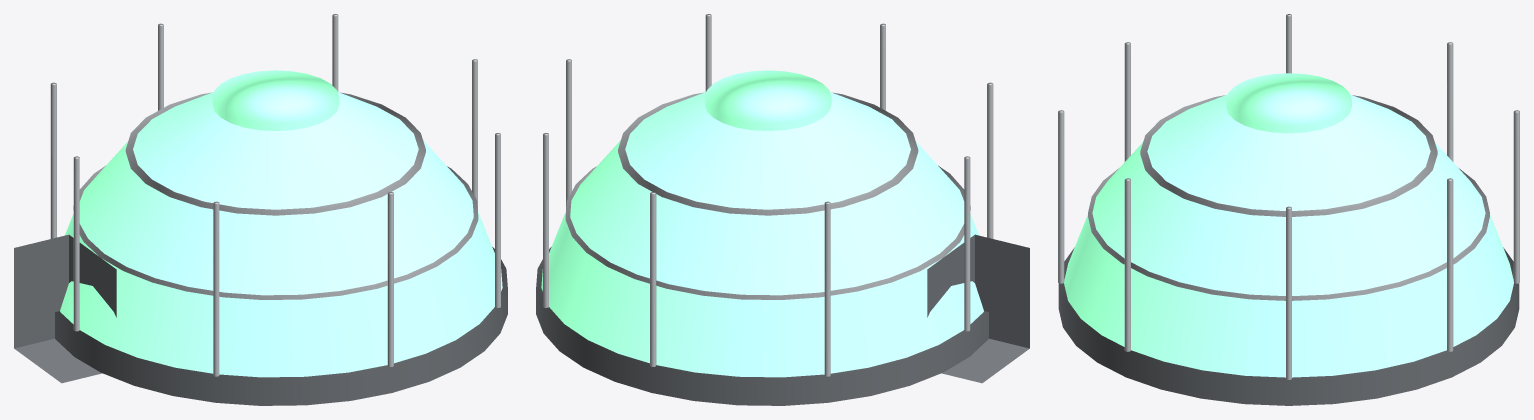
The model's file is greenhouse_dome.glb.
3 renders of one model, left to right at view 1: azimuth 30°, elevation 25°; view 2: azimuth 150°, elevation 25°; view 3: azimuth 270°, elevation 25°, orthographic.
Parts seen in each view (by area): view 1: EquipmentRoot; view 2: EquipmentRoot; view 3: EquipmentRoot.
Part boxes in pixels (x1=…): EquipmentRoot: x1=14, y1=14, x2=507, y2=405; EquipmentRoot: x1=536, y1=14, x2=1029, y2=405; EquipmentRoot: x1=1058, y1=14, x2=1519, y2=405.
Size of the model in its own units: 9.61 by 4.4 by 8.82.
